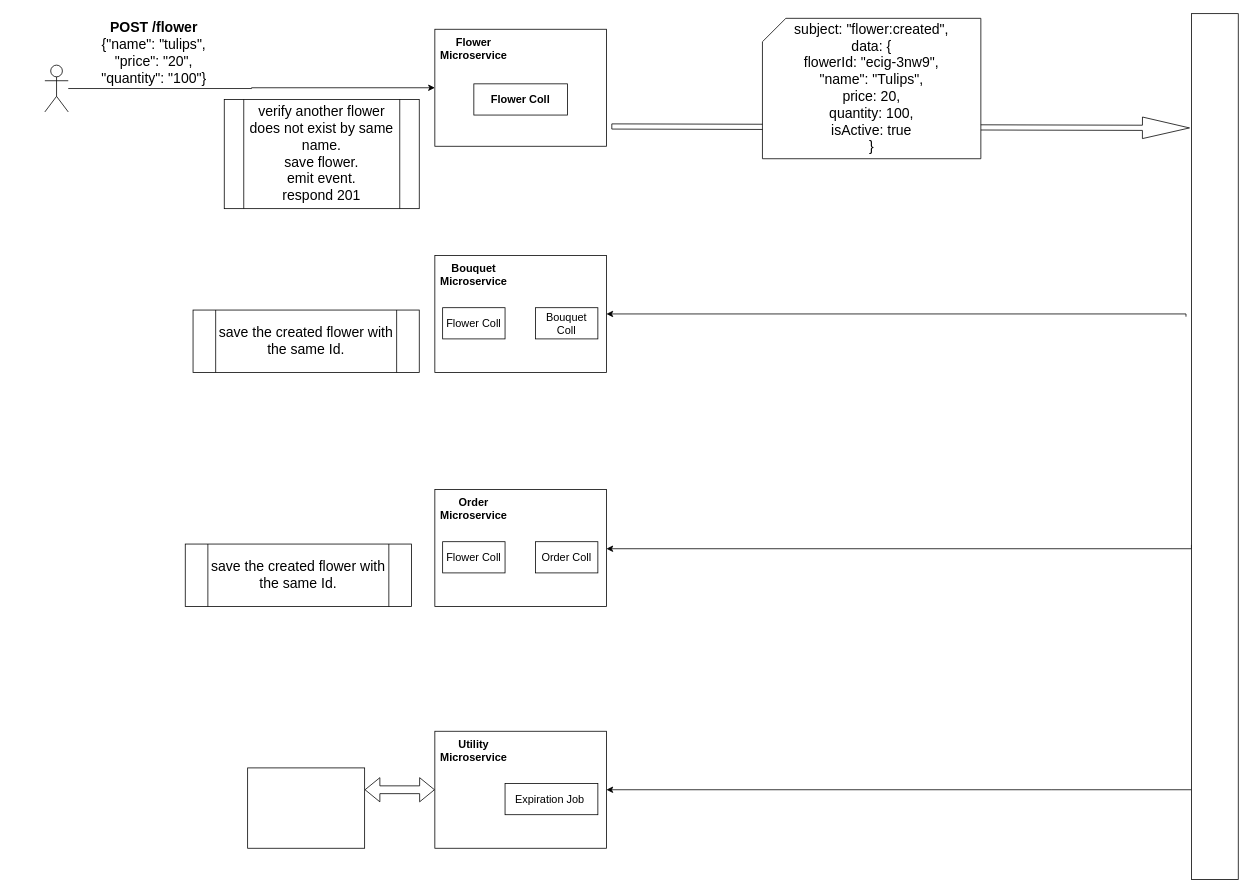
Image size: 1252x893. Some labels were removed from this diagram. The shapes that lost their labels are listed below. From the top down, each one's box as (x1, y1, x2, y2) in pixels, then its label:
(44, 64, 68, 112): Actor
(1191, 13, 1238, 879): E V E N T B U S
(247, 767, 365, 848): Redis in-mem
